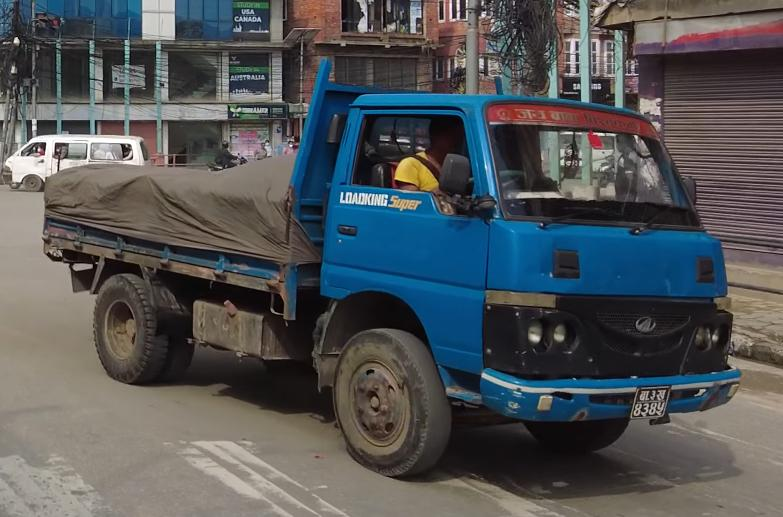micro_bus: (6, 129, 145, 197)
mini_truck: (35, 51, 744, 500)
